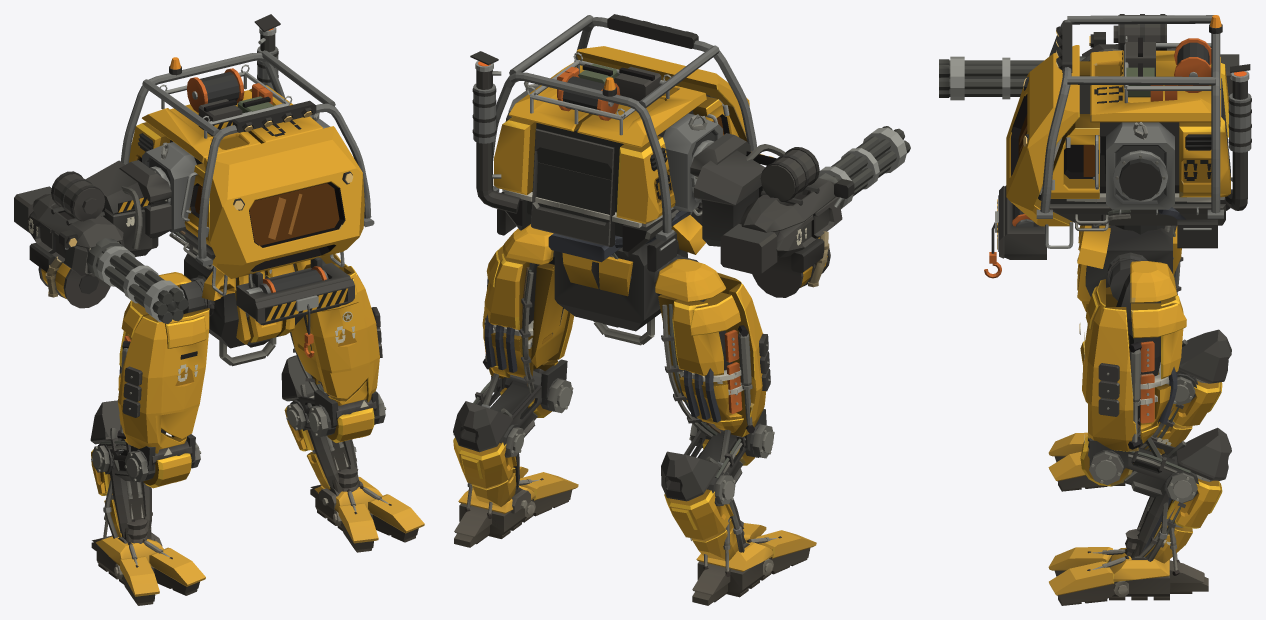
Rendered from rampart-salvager.glb.
3 renders of one model, left to right at view 1: azimuth 30°, elevation 25°; view 2: azimuth 150°, elevation 25°; view 3: azimuth 270°, elevation 25°, orthographic. The views are drawn at different scales.
Visible parts, largest first — view 1: Part_Torso, Part_Pod_R, Part_Thigh_R, Part_Thigh_L, Part_Foot_R, Part_Foot_L, Part_Pelvis, Part_PodSpin_R, Part_Cannon_R, Part_Cannon_L, Part_Shin_R, Part_Shin_L; view 2: Part_Torso, Part_Pod_R, Part_Thigh_R, Part_Thigh_L, Part_Pelvis, Part_Cannon_R, Part_Foot_R, Part_Cannon_L, Part_Foot_L, Part_PodSpin_R, Part_Shin_L, Part_Shin_R; view 3: Part_Torso, Part_Thigh_L, Part_Foot_L, Part_Cannon_L, Part_Cannon_R, Part_Pelvis, Part_PodSpin_R, Part_Shin_L, Part_Pod_R, Part_Foot_R.
Boxes of the visible parts, x1=… form: Part_Torso: x1=120, y1=14, x2=374, y2=357; Part_Pod_R: x1=14, y1=160, x2=171, y2=308; Part_Thigh_R: x1=117, y1=272, x2=214, y2=471; Part_Thigh_L: x1=290, y1=253, x2=382, y2=428; Part_Foot_R: x1=91, y1=478, x2=205, y2=605; Part_Foot_L: x1=310, y1=442, x2=424, y2=552; Part_Pelvis: x1=184, y1=252, x2=310, y2=366; Part_PodSpin_R: x1=86, y1=238, x2=188, y2=323; Part_Cannon_R: x1=90, y1=400, x2=152, y2=542; Part_Cannon_L: x1=281, y1=355, x2=360, y2=492; Part_Shin_R: x1=100, y1=438, x2=201, y2=488; Part_Shin_L: x1=293, y1=393, x2=386, y2=442; Part_Torso: x1=470, y1=14, x2=756, y2=272; Part_Pod_R: x1=690, y1=133, x2=854, y2=297; Part_Thigh_R: x1=655, y1=254, x2=770, y2=470; Part_Thigh_L: x1=481, y1=224, x2=574, y2=408; Part_Pelvis: x1=554, y1=215, x2=705, y2=345; Part_Cannon_R: x1=661, y1=451, x2=746, y2=560; Part_Foot_R: x1=692, y1=500, x2=816, y2=605; Part_Cannon_L: x1=453, y1=401, x2=525, y2=506; Part_Foot_L: x1=454, y1=466, x2=578, y2=547; Part_PodSpin_R: x1=818, y1=126, x2=910, y2=208; Part_Shin_L: x1=473, y1=368, x2=573, y2=443; Part_Shin_R: x1=684, y1=422, x2=774, y2=483; Part_Torso: x1=984, y1=15, x2=1251, y2=278; Part_Thigh_L: x1=1079, y1=258, x2=1186, y2=469; Part_Foot_L: x1=1048, y1=500, x2=1208, y2=605; Part_Cannon_L: x1=1131, y1=427, x2=1231, y2=563; Part_Cannon_R: x1=1139, y1=329, x2=1231, y2=454; Part_Pelvis: x1=1077, y1=225, x2=1181, y2=303; Part_PodSpin_R: x1=939, y1=56, x2=1085, y2=100; Part_Shin_L: x1=1080, y1=436, x2=1190, y2=498; Part_Pod_R: x1=1081, y1=14, x2=1239, y2=97; Part_Foot_R: x1=1048, y1=424, x2=1161, y2=491.
Bounding box in the file's own units: 4.16 × 5.5 × 3.07.
